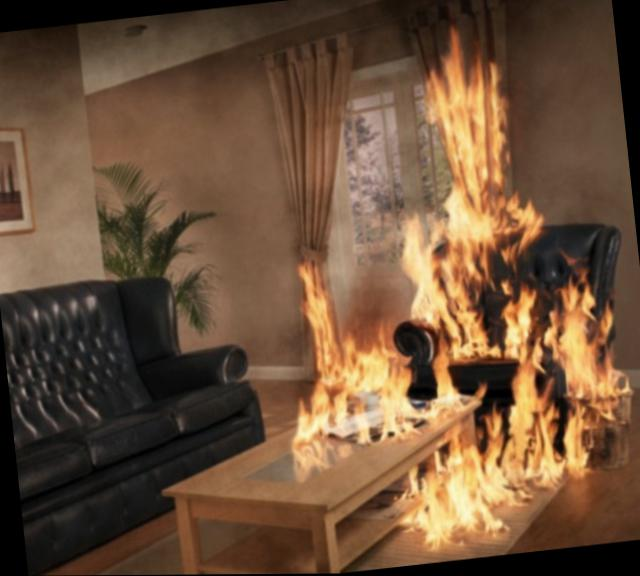fire: (234, 12, 639, 555)
